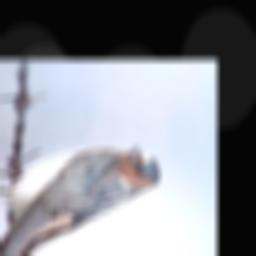Swallow: (0, 146, 160, 256)
